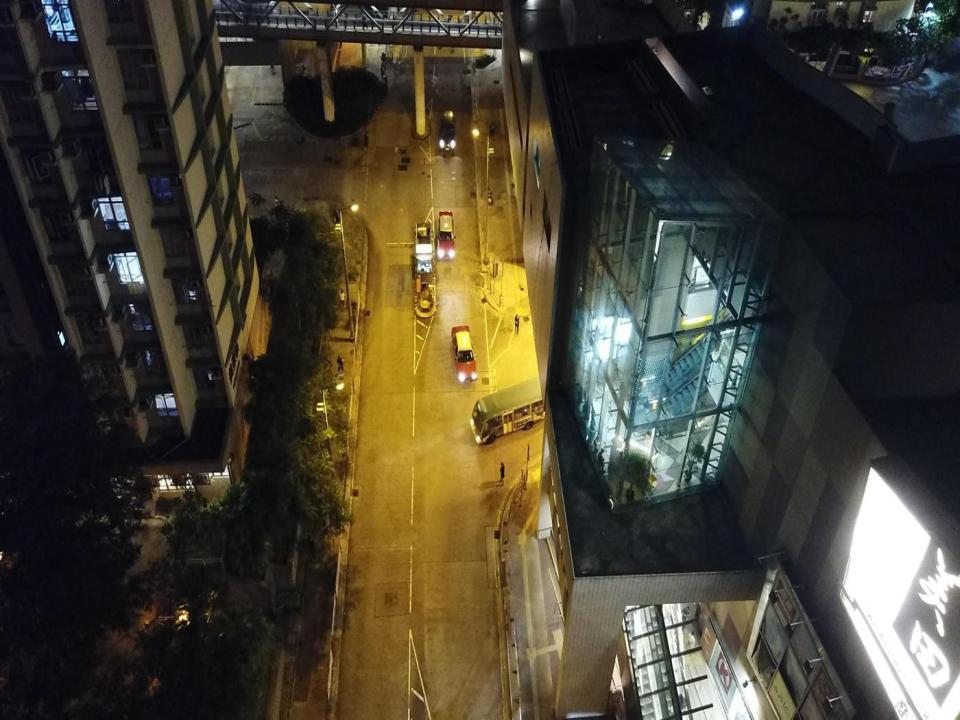bus: (469, 376, 555, 445)
car: (451, 325, 477, 382), (436, 210, 456, 261), (438, 109, 456, 150)
